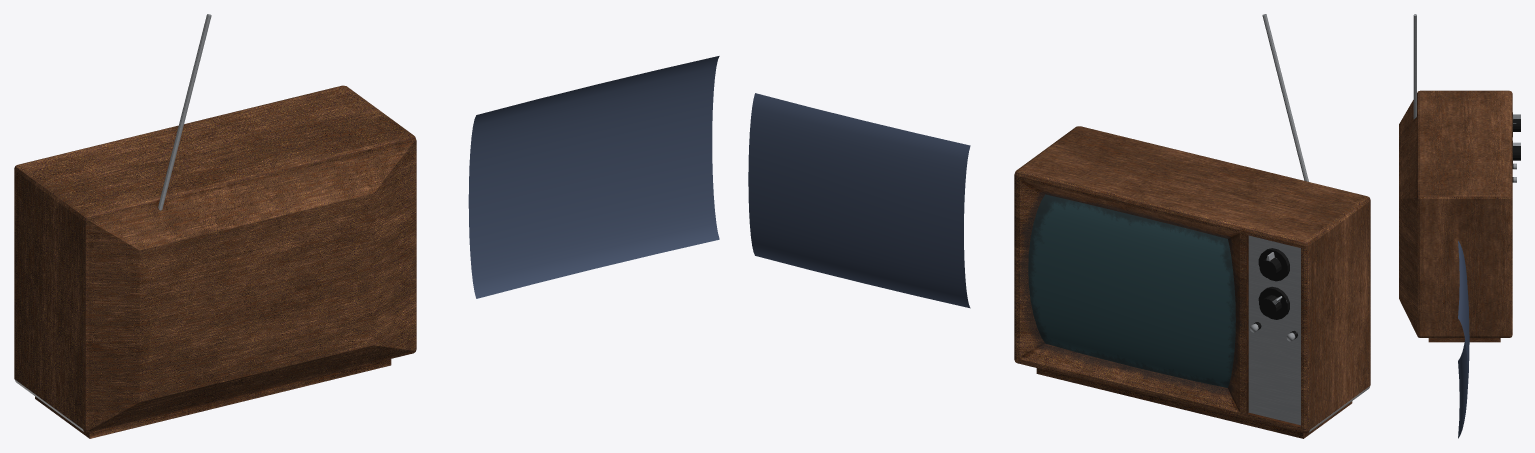
Rendered from old_wooden_tv.glb.
The picture shows the model from 3 angles, left to right: view 1: azimuth 30°, elevation 25°; view 2: azimuth 150°, elevation 25°; view 3: azimuth 270°, elevation 25°; orthographic projection. The views are drawn at different scales.
Visible parts, largest first — view 1: TV, Tela__tv; view 2: TV, Tela__tv; view 3: TV, Tela__tv.
Part boxes in pixels (left/top/right/bottom): TV: left=14, top=14, right=416, bottom=438; Tela__tv: left=468, top=56, right=719, bottom=298; TV: left=1014, top=14, right=1370, bottom=438; Tela__tv: left=748, top=93, right=970, bottom=308; TV: left=1399, top=14, right=1520, bottom=342; Tela__tv: left=1458, top=241, right=1469, bottom=438.
Size of the model in its own units: 160 by 93.04 by 38.62.
2 materials, 1 textured.
